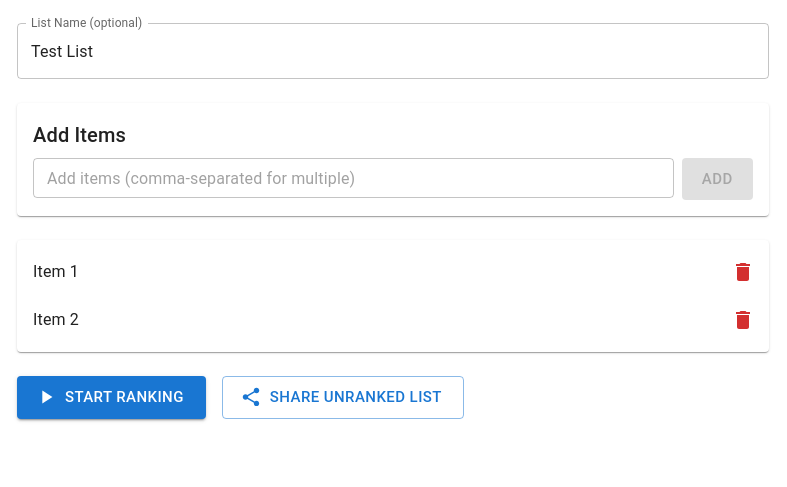
Test case: CurrentListView › Adding Items › adds item when Add button clicked
Type "New Item" into the field with placeholder "Add items (comma-separated for multiple)" at (353, 178), box [33,158,674,198]
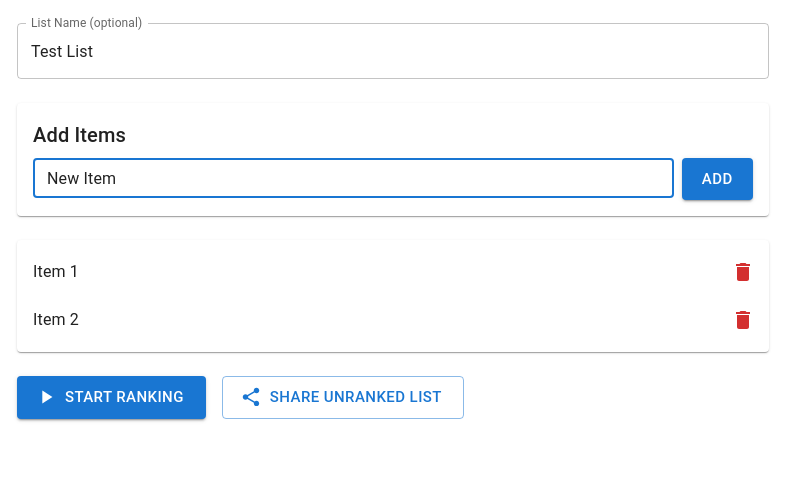
Click the button "Add" at (717, 179), box [682,158,753,200]
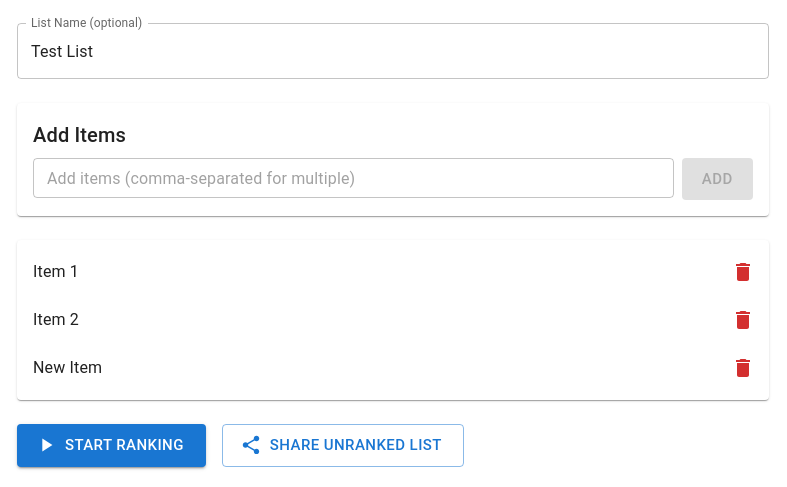
Expected: the text "New Item" is shown, [33,358,102,377]
